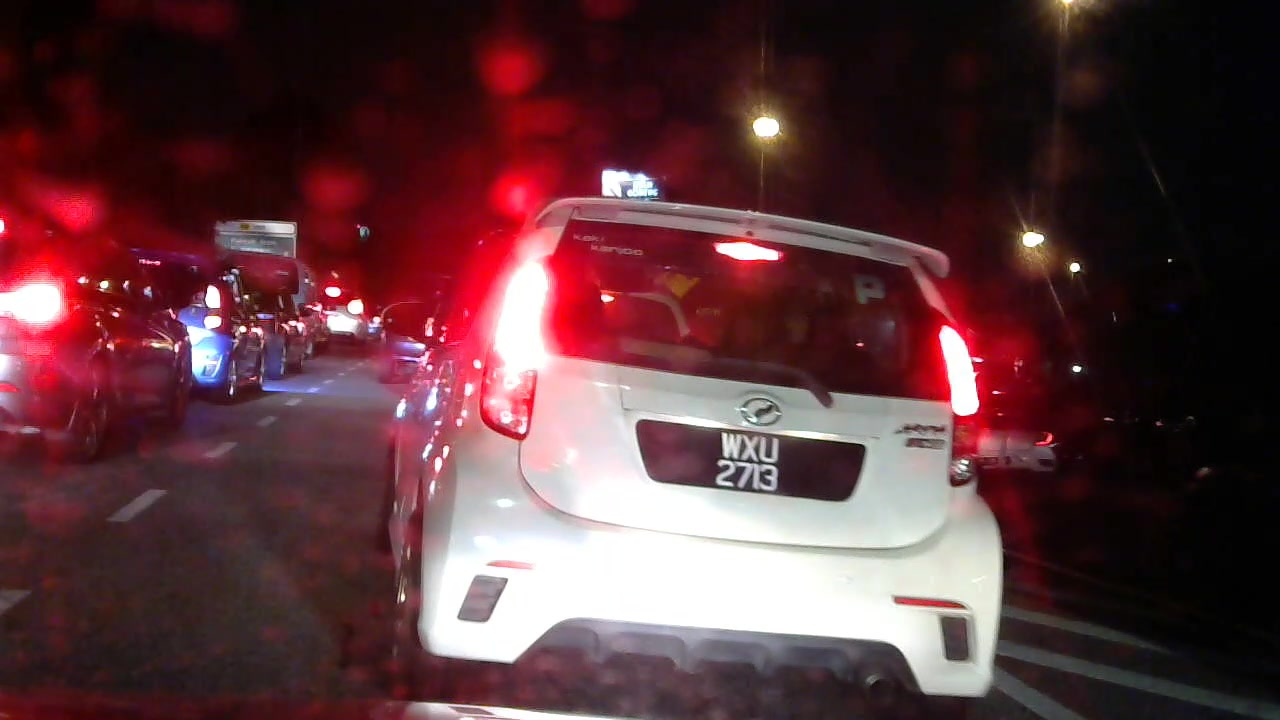Car: (384, 200, 1008, 690), (1, 237, 185, 457), (153, 255, 274, 401), (975, 399, 1068, 496), (367, 293, 442, 384), (246, 290, 311, 370), (318, 274, 371, 342)
